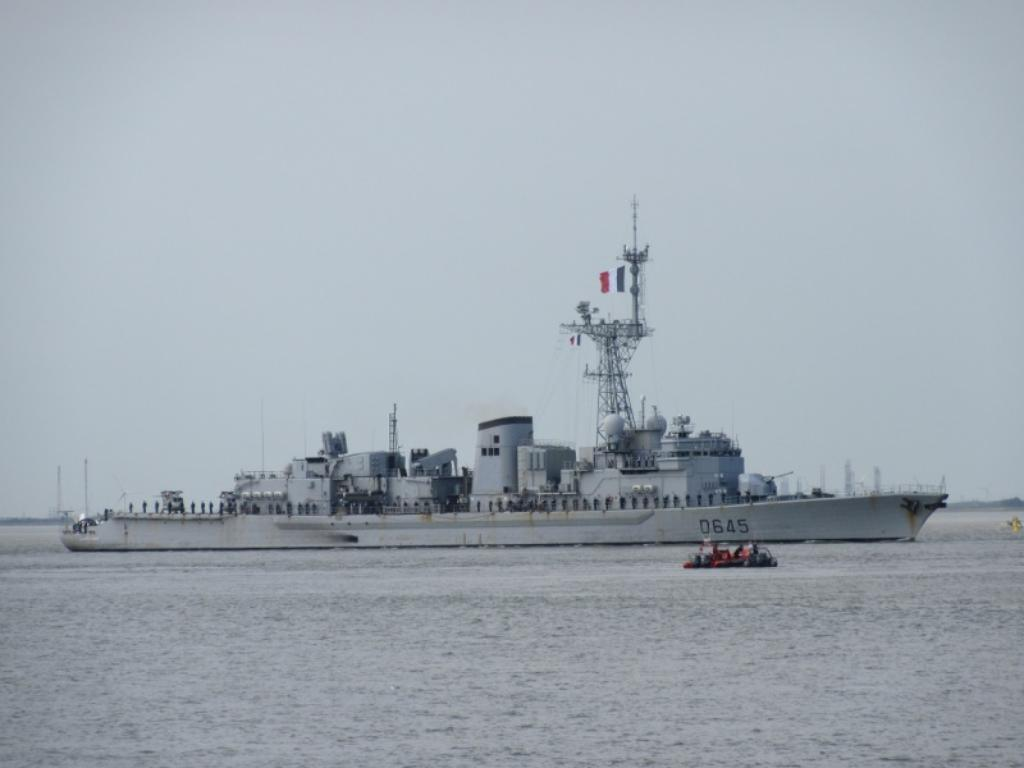Warship: (50, 192, 950, 550)
